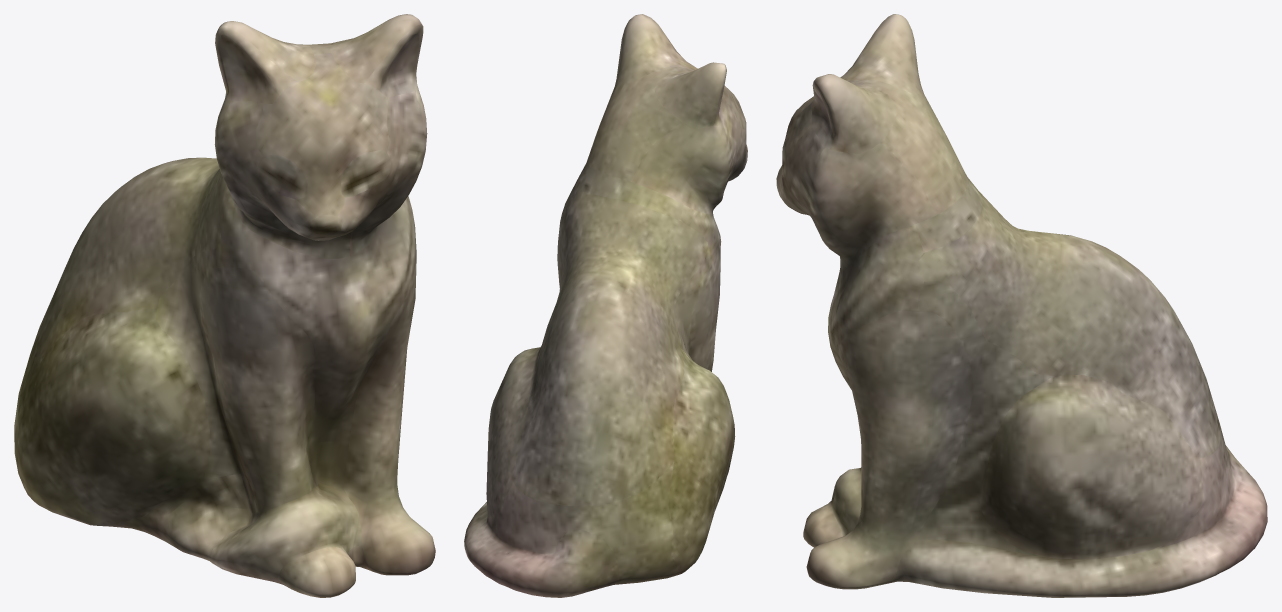
Rendered from concrete_cat_statue_1k.glb.
The picture shows the model from 3 angles, left to right: view 1: azimuth 30°, elevation 25°; view 2: azimuth 150°, elevation 25°; view 3: azimuth 270°, elevation 25°; orthographic projection. The views are drawn at different scales.
Parts seen in each view (by area): view 1: concrete_cat_statue; view 2: concrete_cat_statue; view 3: concrete_cat_statue.
Part boxes in pixels (<box>): concrete_cat_statue: <box>14,14,435,597</box>; concrete_cat_statue: <box>464,14,747,597</box>; concrete_cat_statue: <box>776,14,1267,597</box>.
Bounding box in the file's own units: 0.153 × 0.283 × 0.25.
1 material, 1 textured.
